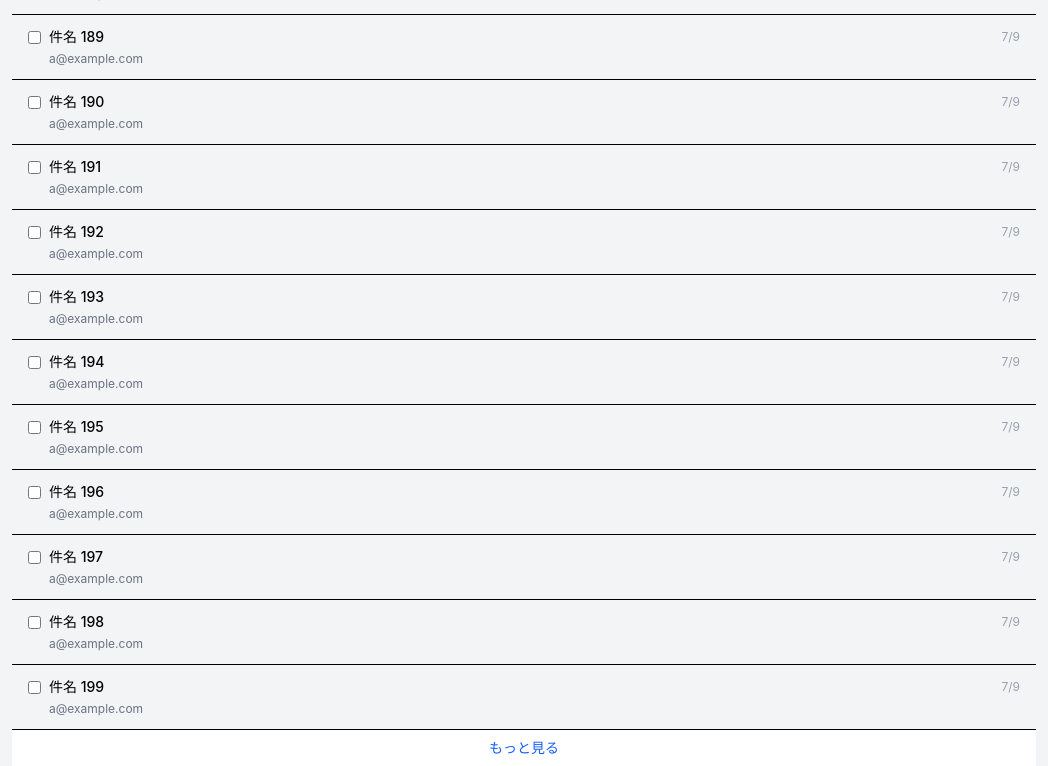
ThreadList paging › クリックで次ページを offset 付きで取得し、一覧へ追記する
The image size is (1048, 766).
(page scrolled)
Click the button "もっと見る". click: click(524, 748)
box: [12, 730, 1036, 765]
(page scrolled)
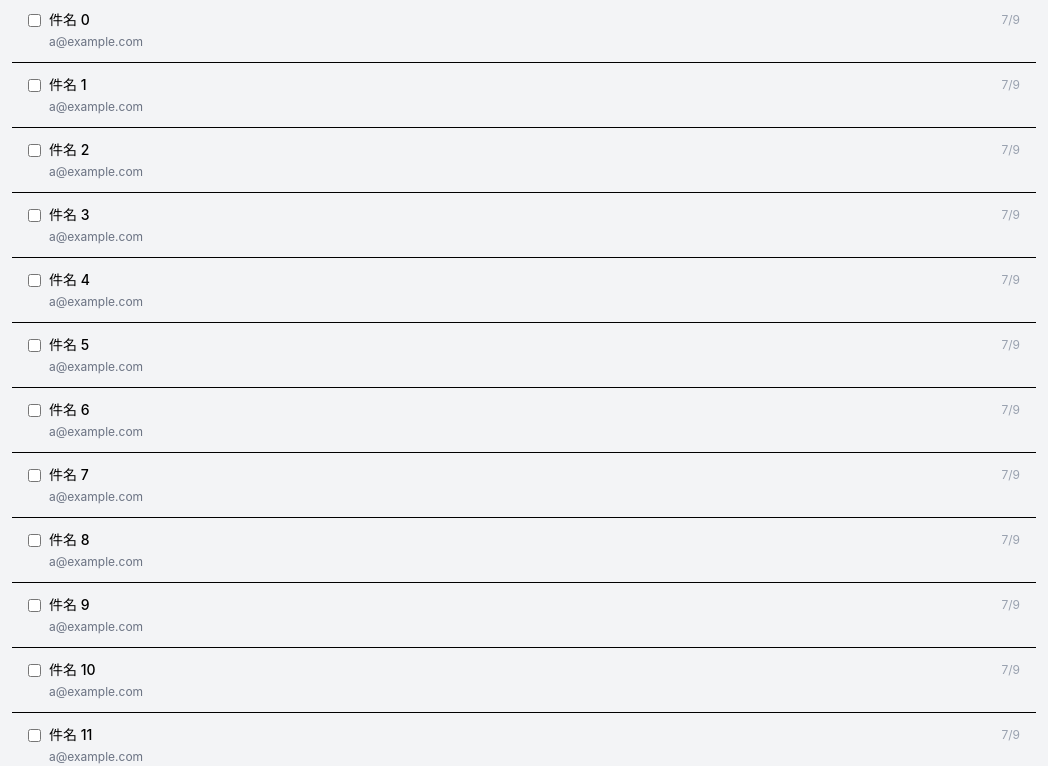
Expected: the text "件名 0" is shown, [49, 10, 90, 30]
Now the button "もっと見る" is gone
